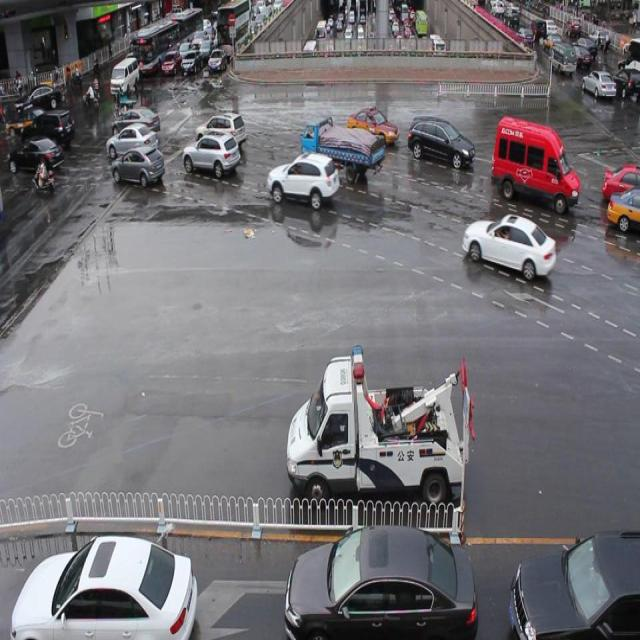bus: (287, 338, 475, 506), (301, 117, 384, 182)
car: (286, 524, 477, 640), (13, 532, 195, 640), (508, 530, 640, 640), (464, 215, 554, 277), (267, 152, 338, 208), (410, 111, 474, 166), (184, 130, 239, 176), (111, 145, 164, 187), (348, 105, 399, 143), (197, 112, 245, 152), (601, 158, 640, 198), (604, 186, 640, 228)
truck: (491, 114, 579, 208)
